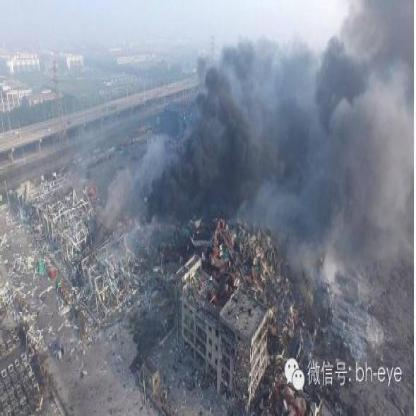smoke: (246, 114, 410, 258), (204, 26, 413, 116), (127, 116, 240, 242)
